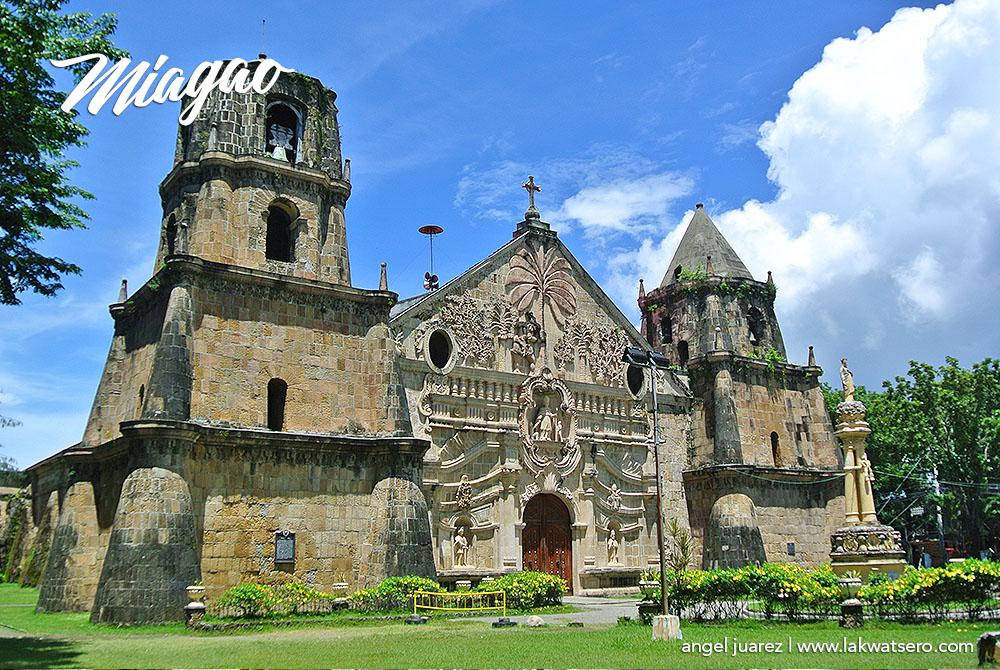Environmental Damage: (675, 267, 780, 306), (311, 96, 342, 167), (744, 345, 788, 385), (644, 302, 661, 314)
Miagao Church: (57, 47, 898, 621)
